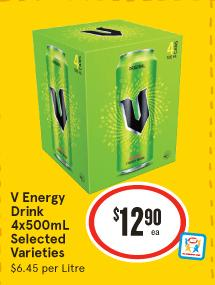description_block: (3, 187, 74, 261)
price_main: (92, 193, 175, 246)
product_image_block: (20, 13, 192, 195)
unit_price_block: (6, 261, 96, 278)
